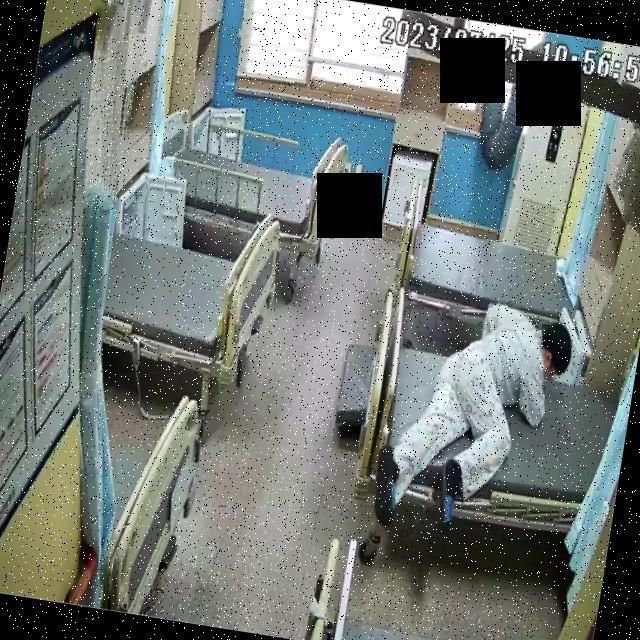bed: (348, 284, 632, 544), (388, 166, 596, 350), (97, 194, 286, 384), (164, 118, 348, 258)
danger: (374, 288, 576, 545)
patient: (370, 281, 578, 545)
